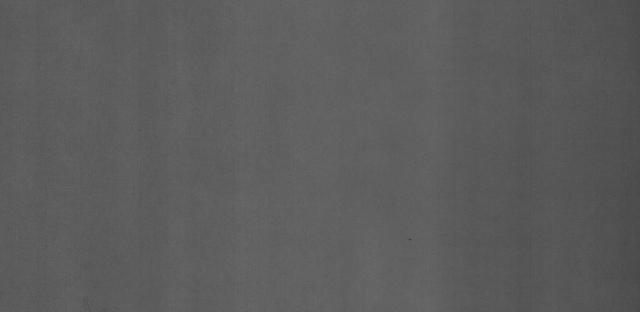inclusion: (401, 226, 421, 249)
